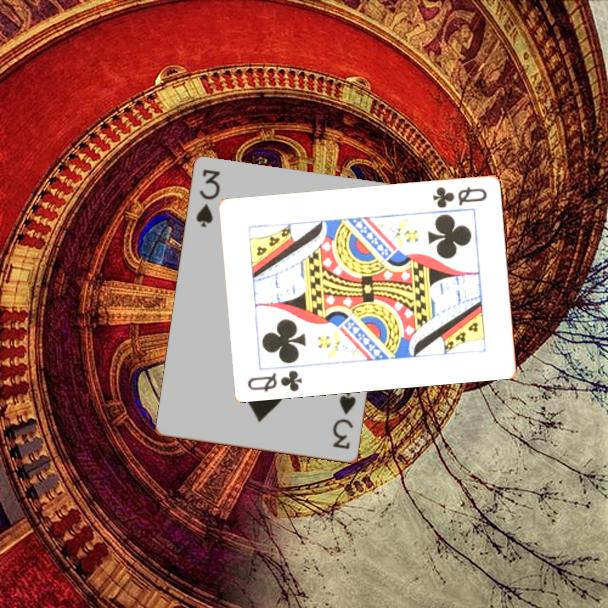c12: (244, 366, 305, 395), (430, 183, 490, 211)
s03: (193, 166, 223, 231), (329, 388, 359, 452)
